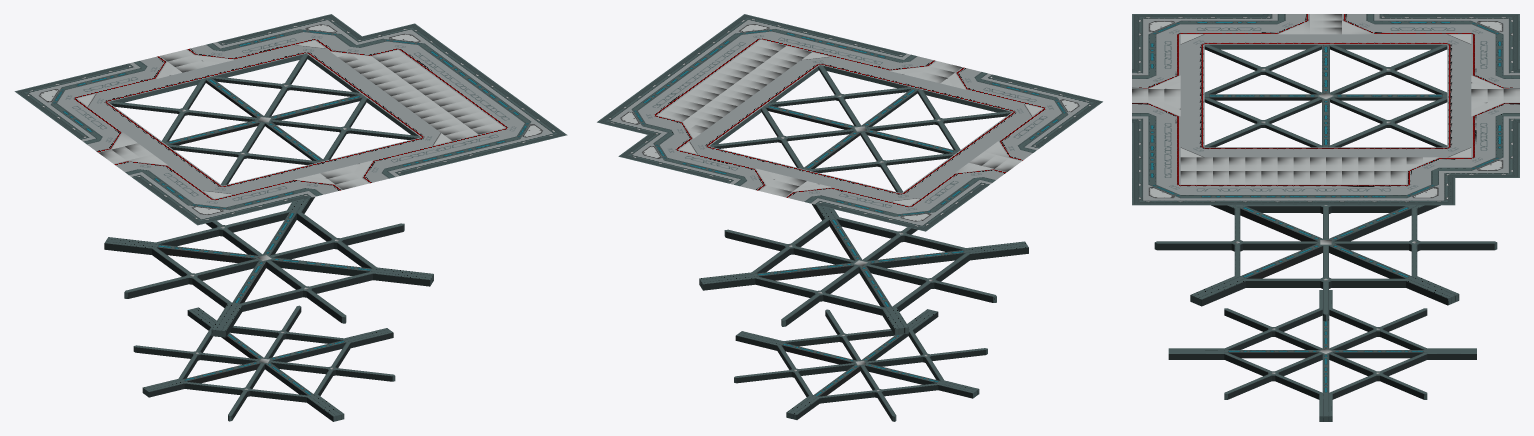
Rendered from MachineRoom.fbx.
The picture shows the model from 3 angles, left to right: view 1: azimuth 30°, elevation 25°; view 2: azimuth 150°, elevation 25°; view 3: azimuth 270°, elevation 25°; orthographic projection. The views are drawn at different scales.
Parts seen in each view (by area): view 1: SolMachineRoom; view 2: SolMachineRoom; view 3: SolMachineRoom.
Boxes of the visible parts, left/top/right/bottom form: SolMachineRoom: left=14, top=14, right=567, bottom=421; SolMachineRoom: left=597, top=14, right=1102, bottom=421; SolMachineRoom: left=1132, top=14, right=1519, bottom=421.
Size of the model in its own units: 2100 by 1800 by 1337.
